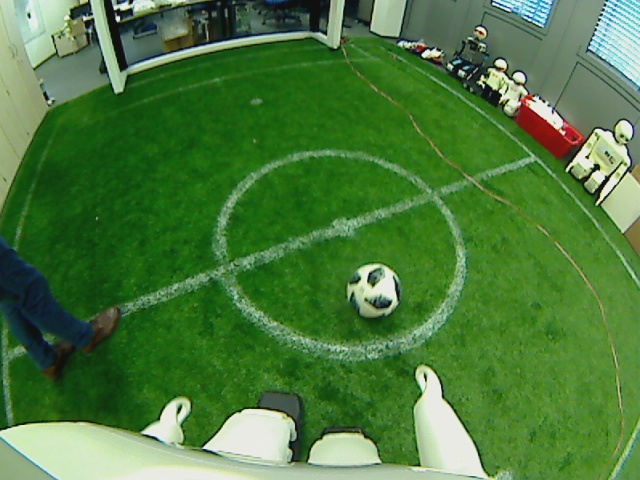ball: (344, 260, 405, 318)
